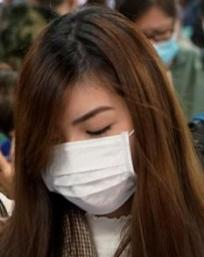OK: (41, 94, 138, 216), (131, 22, 177, 69)
